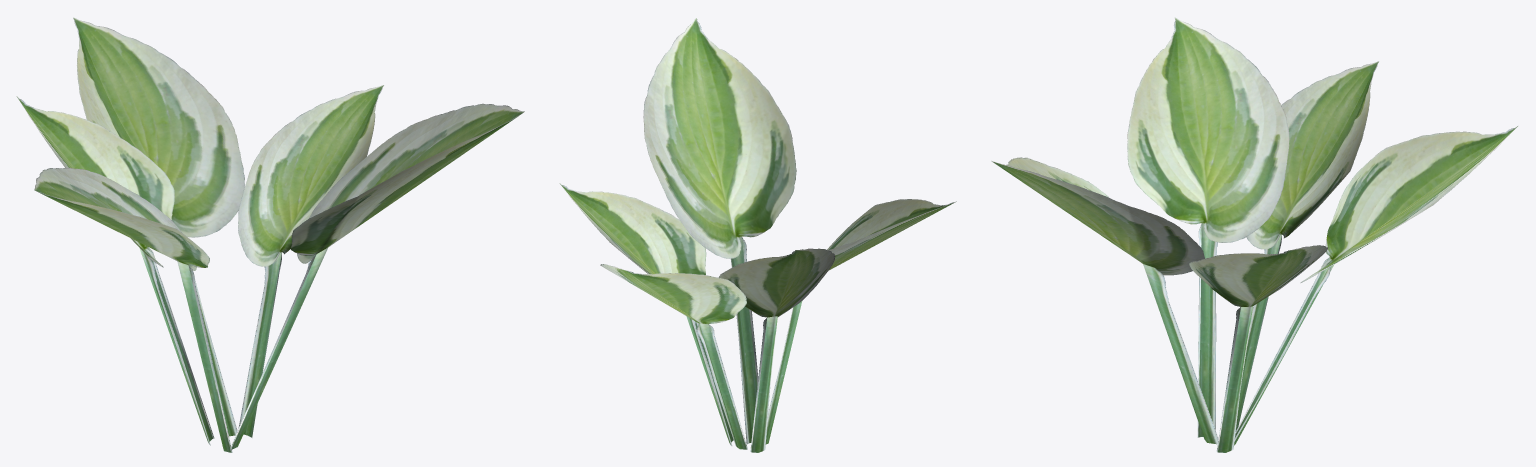
File: plant_small_wg_02K.fbx
The picture shows the model from 3 angles, left to right: view 1: azimuth 30°, elevation 25°; view 2: azimuth 150°, elevation 25°; view 3: azimuth 270°, elevation 25°; orthographic projection. The views are drawn at different scales.
Visible parts, largest first — view 1: plant_small_wg_02K; view 2: plant_small_wg_02K; view 3: plant_small_wg_02K.
Boxes of the visible parts, box(x1,y1,x2,y2) form: plant_small_wg_02K: box(16, 17, 524, 452); plant_small_wg_02K: box(559, 18, 956, 452); plant_small_wg_02K: box(991, 17, 1517, 452).
Size of the model in its own units: 55.79 by 48.39 by 63.07.
